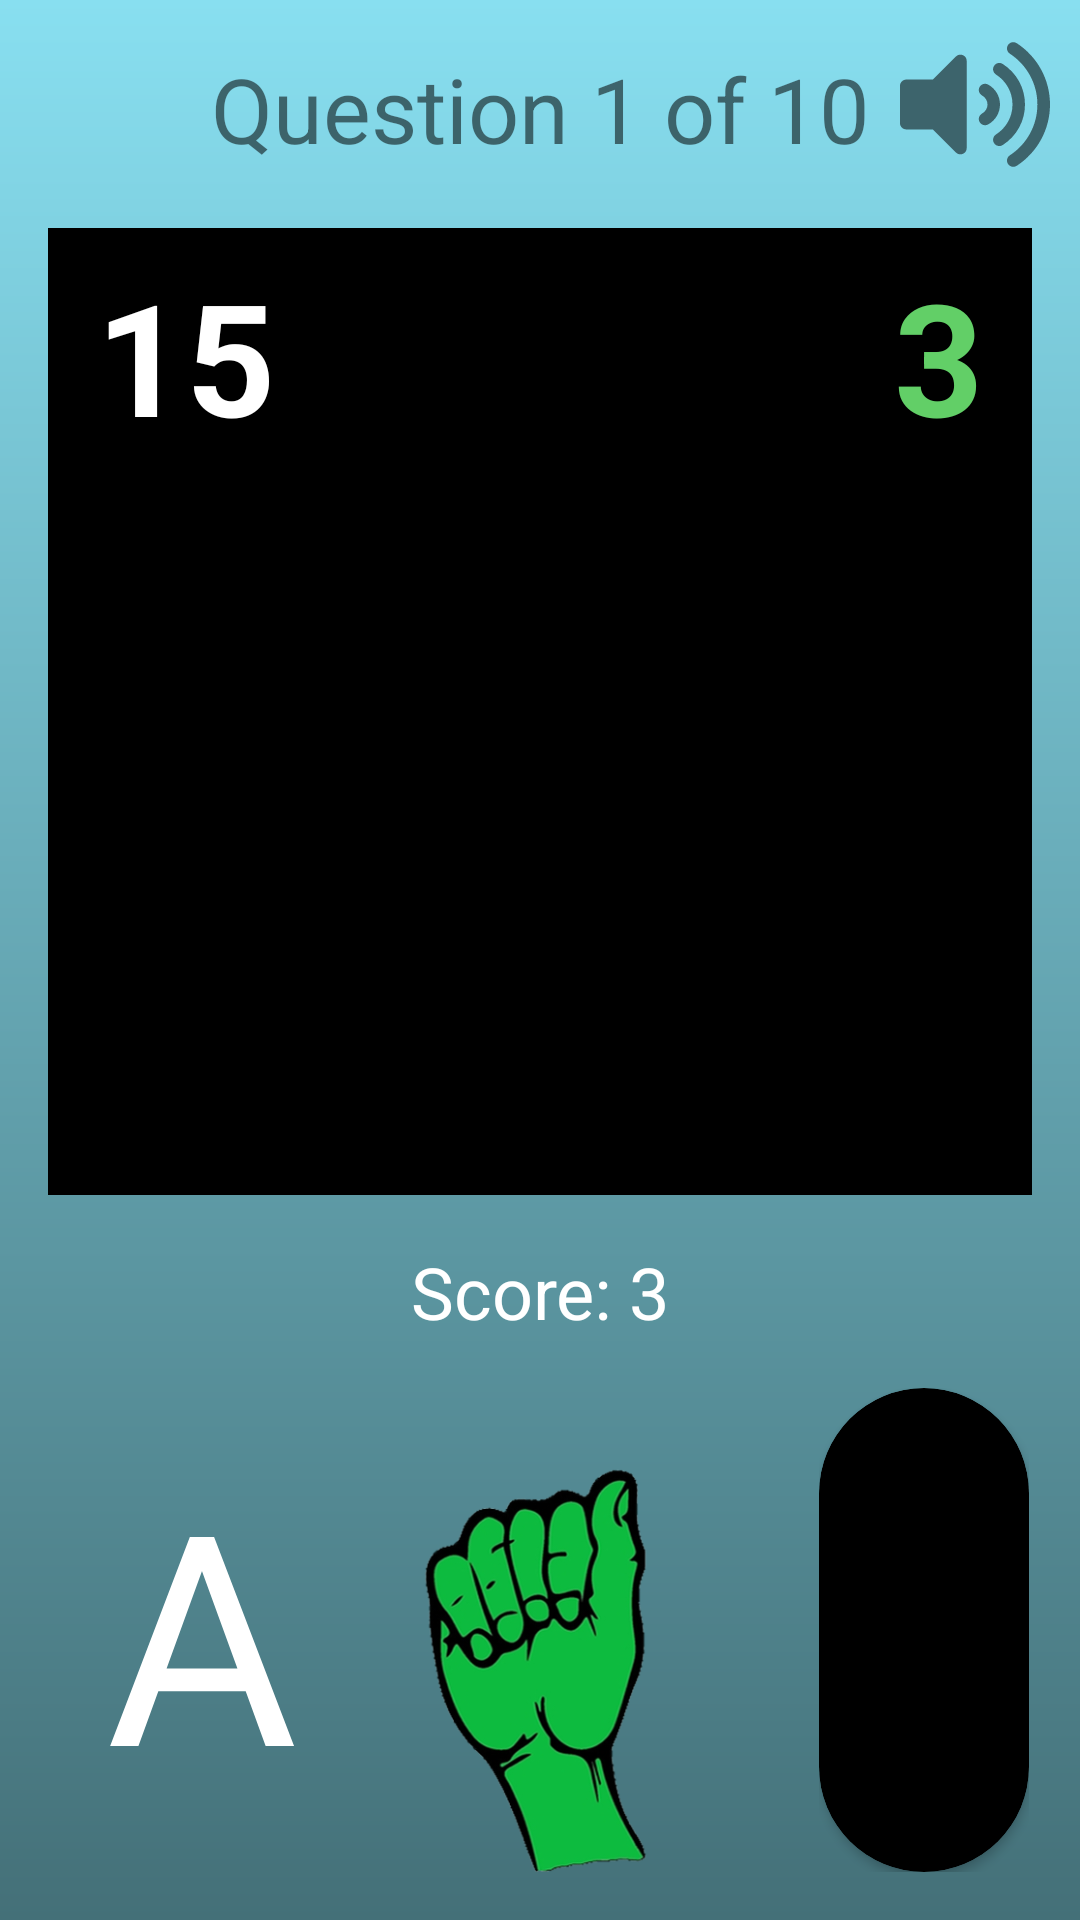

Locate icon controls on the screen. Image size 1080w x 1920h, boxes as (x1, y1, x2, y2).
volume on: (900, 42, 1050, 167)
